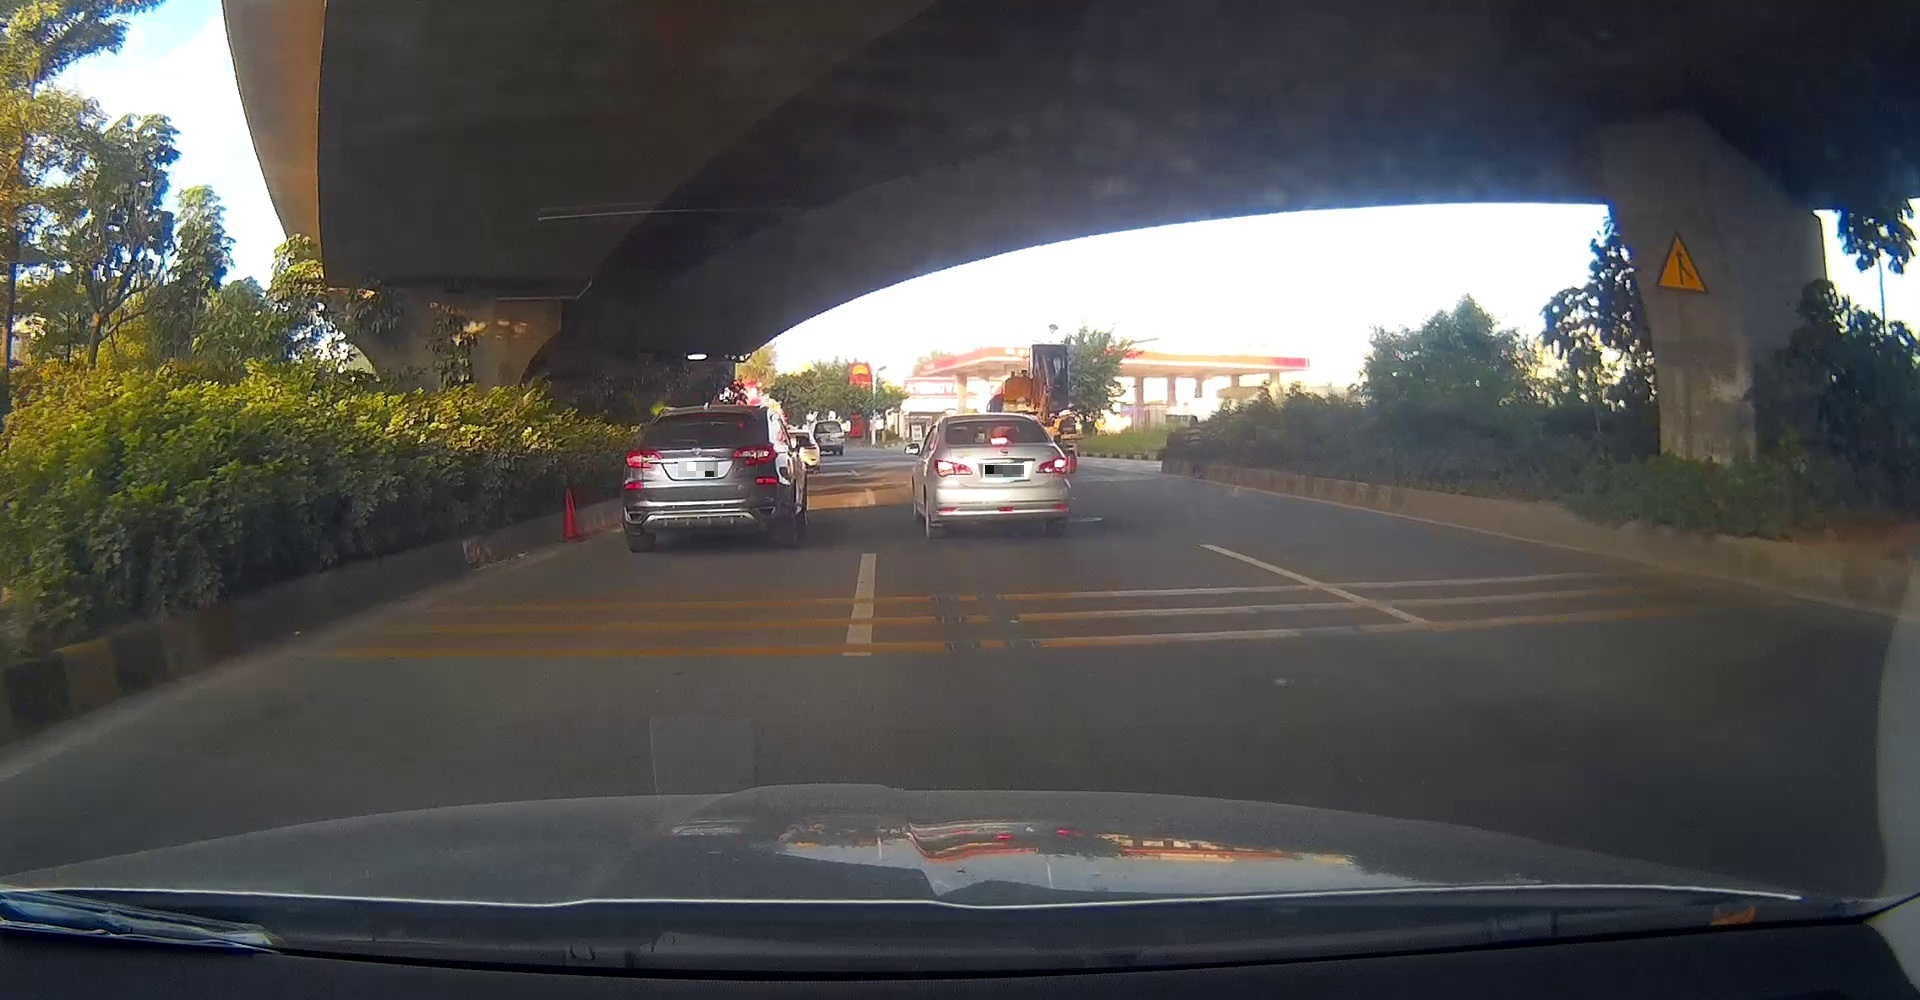L_light: (935, 459, 973, 478), (626, 451, 662, 468)
R_light: (733, 442, 778, 464), (1035, 457, 1068, 475)
T_light: (990, 437, 1008, 445), (698, 412, 716, 418)
day-brake: (931, 412, 1070, 538)
day-no: (621, 405, 795, 553)
plate_1: (678, 462, 717, 477)
plate_2: (985, 464, 1023, 477)
